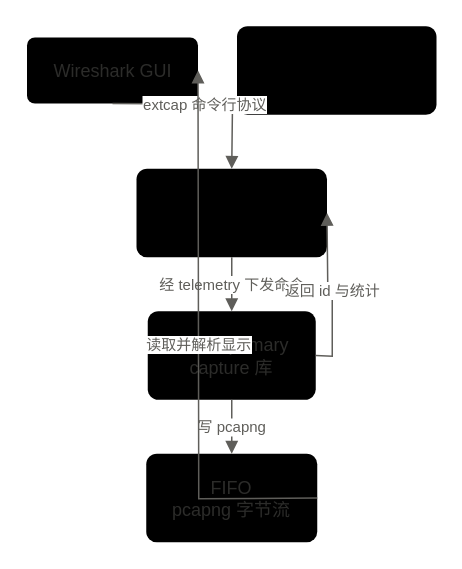
Image size: 462x569. Some labels were removed from this diagram. The centre of each missing label's shape, as x and y in pixels:
extcap helper C 程序 特权安装: (x=231, y=212)
telemetry socket 控制命令 不传包: (x=336, y=70)
